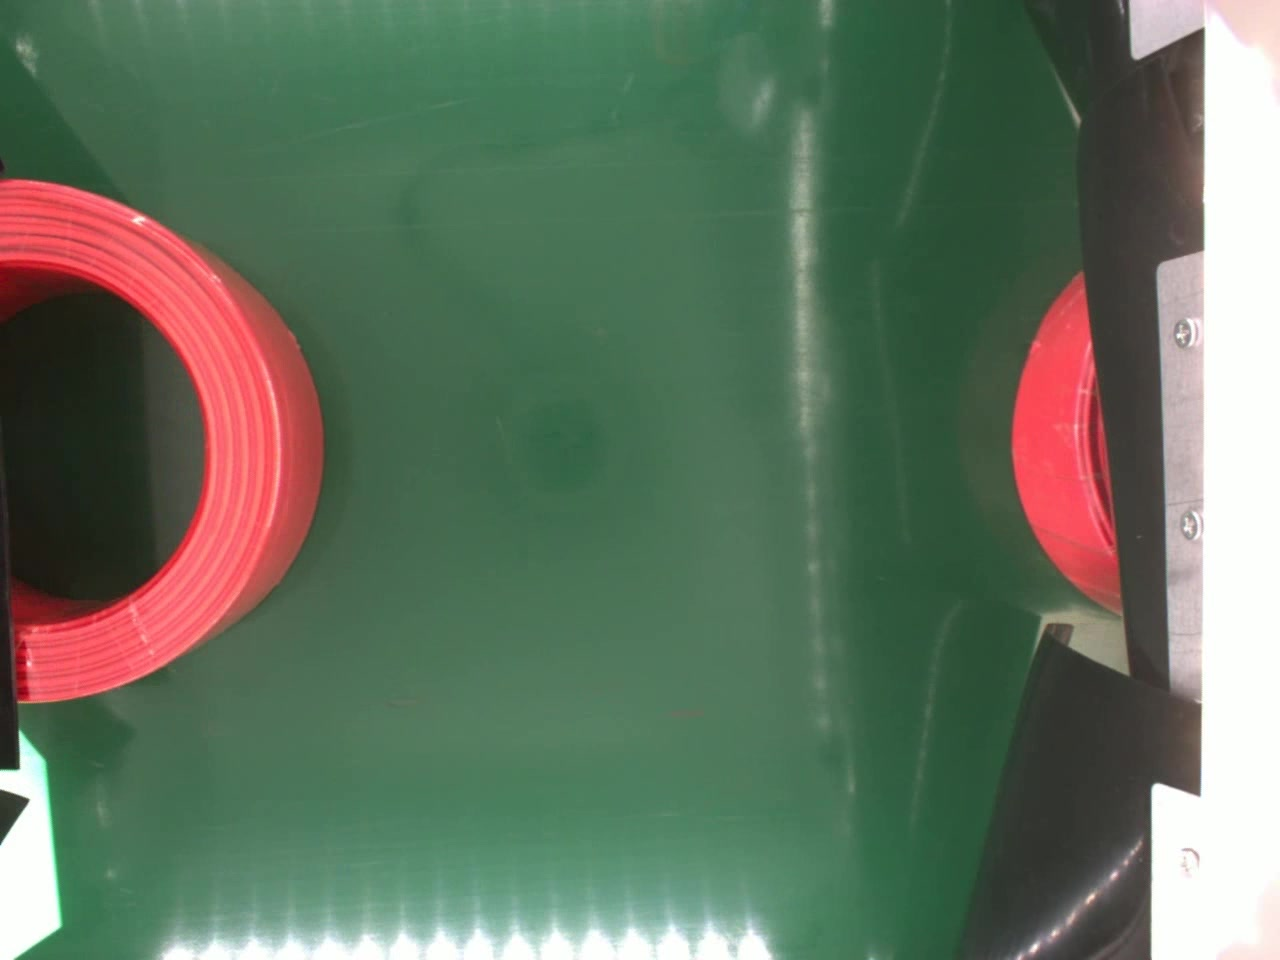red: (0, 174, 330, 707)
